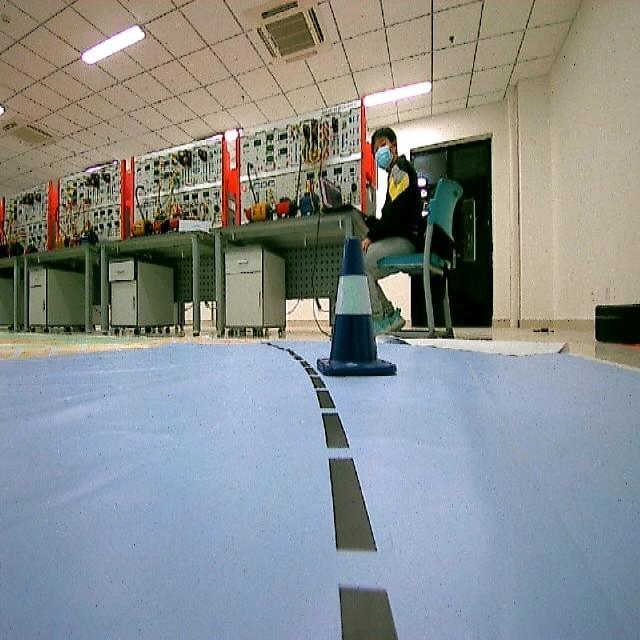obstacle: (329, 234, 398, 386)
